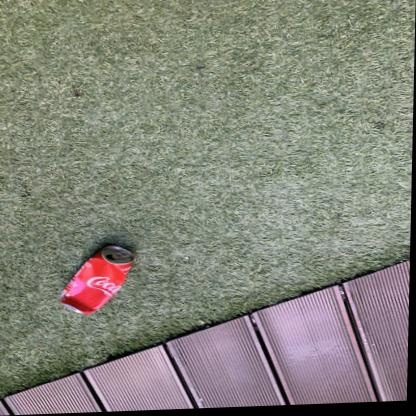trash: (60, 245, 134, 314)
